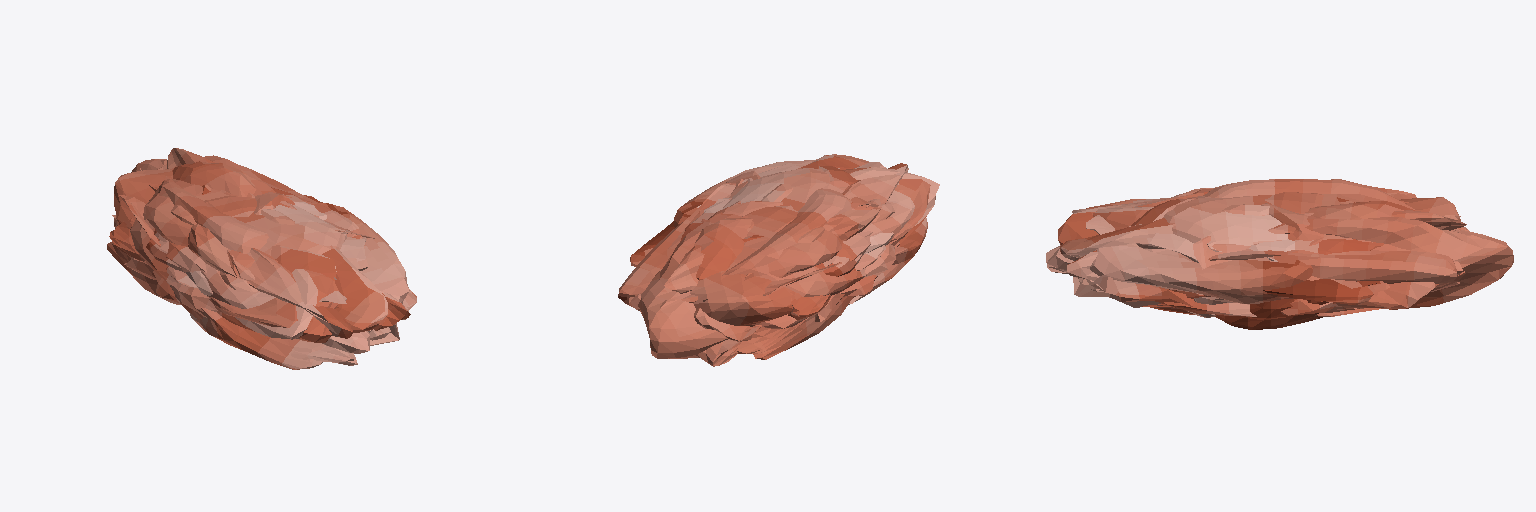
The picture shows the model from 3 angles: view 1: azimuth 30°, elevation 25°; view 2: azimuth 150°, elevation 25°; view 3: azimuth 270°, elevation 25°; orthographic projection.
Parts seen in each view (by area): view 1: Cube; view 2: Cube; view 3: Cube.
Part boxes in pixels (left/top/right/bottom): Cube: left=107, top=148, right=416, bottom=369; Cube: left=618, top=154, right=939, bottom=366; Cube: left=1046, top=179, right=1513, bottom=329.
Size of the model in its own units: 2.27 by 1.22 by 4.64.
1 materials, 1 textured.